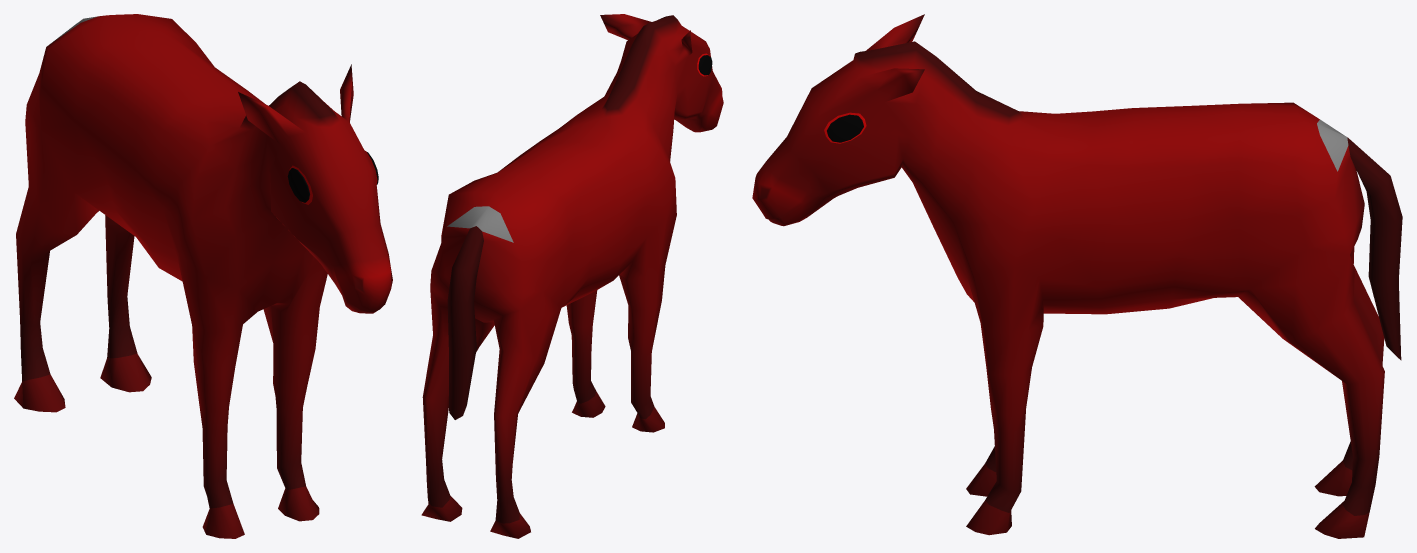
Rendered from Animals_WildHorse.fbx.
3 views of the same model, side by side, from view 1: azimuth 30°, elevation 25°; view 2: azimuth 150°, elevation 25°; view 3: azimuth 270°, elevation 25° (orthographic). The views are drawn at different scales.
Parts seen in each view (by area): view 1: base; view 2: base (×2); view 3: base (×2).
Part boxes in pixels (box(x1,y1,x2,y2)): base: box(14, 14, 392, 538); base (×2): box(421, 14, 723, 538); base (×2): box(752, 14, 1402, 538).
Size of the model in its own units: 56.8 by 179 by 226.
